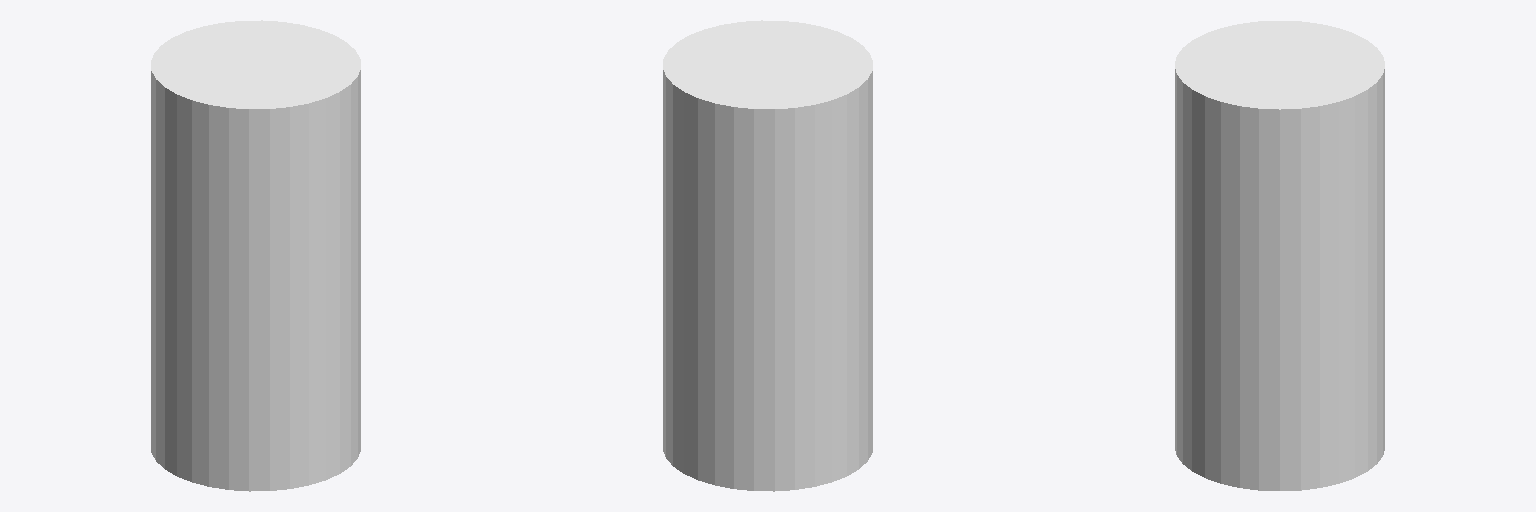
URDF robot description (target):
<?xml version="1.0" ?>
<!-- =================================================================================== -->
<!-- |    This document was autogenerated by xacro from target_cylinder.xacro          | -->
<!-- |    EDITING THIS FILE BY HAND IS NOT RECOMMENDED                                 | -->
<!-- =================================================================================== -->
<robot name="target" xmlns:xacro="http://www.ros.org/wiki/xacro">
  <link name="target">
    <contact>
      <lateral_friction value="1"/>
    </contact>
    <inertial>
      <origin rpy="0 0 0" xyz="0 0 0"/>
      <mass value="0.05"/>
      <!--<inertia ixx="${1/12*mass*(3*radius*radius+length*length)}" ixy="0" ixz="0"-->
      <!--iyy="${1/12*mass*(3*radius*radius+length*length)}" iyz="0"-->
      <!--izz="${1/2*mass*radius*radius}"/>-->
      <!--<inertia ixx="1e-20" ixy="0" ixz="0"-->
      <!--iyy="1e-20" iyz="0"-->
      <!--izz="${1/2*mass*radius*radius}"/>-->
      <inertia ixx="0.00145833333333" ixy="0" ixz="0" iyy="0.00145833333333" iyz="0" izz="0.00125"/>
    </inertial>
    <visual>
      <origin rpy="0 0 0" xyz="0 0 0"/>
      <geometry>
        <cylinder length="0.2" radius="0.05"/>
      </geometry>
      <material name="white">
        <color rgba="1 1 1 1"/>
      </material>
    </visual>
    <collision>
      <origin rpy="0 0 0" xyz="0 0 0"/>
      <geometry>
        <cylinder length="0.2" radius="0.05"/>
      </geometry>
    </collision>
  </link>
</robot>

--- Render facts (derived) ---
3 views of the same robot in one strip: view 1: azimuth 30°, elevation 25°; view 2: azimuth 150°, elevation 25°; view 3: azimuth 270°, elevation 25° (orthographic).
Model target with 1 links and 0 joints (none), rooted at target, posed every joint at zero.
Visible links, largest first — view 1: target; view 2: target; view 3: target.
Boxes of the visible links, x1=… form: target: x1=151, y1=20, x2=360, y2=491; target: x1=663, y1=20, x2=872, y2=491; target: x1=1175, y1=21, x2=1384, y2=490.
Bounding box of the posed robot: 0.1 × 0.1 × 0.2 m (x, y, z).
Geometry: primitives only (box / cylinder / sphere), no mesh files.